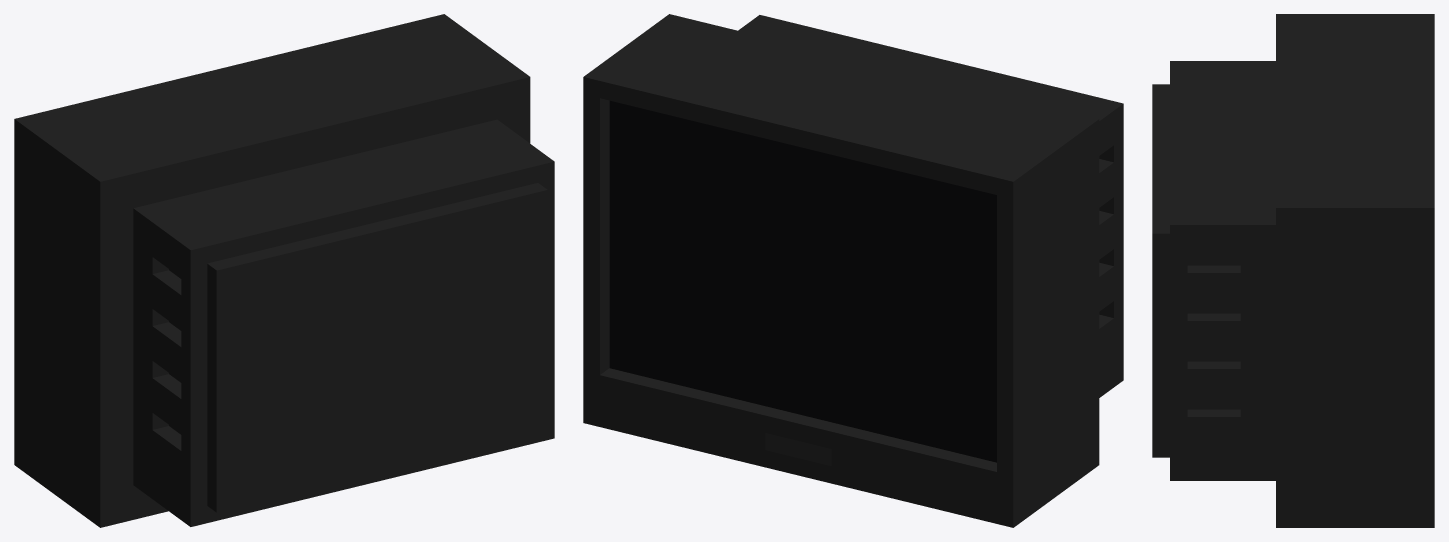
3 views of the same model, side by side, from view 1: azimuth 30°, elevation 25°; view 2: azimuth 150°, elevation 25°; view 3: azimuth 270°, elevation 25° (orthographic). The views are drawn at different scales.
Visible parts, largest first — view 1: Untitled.001; view 2: Untitled.001, Untitled; view 3: Untitled.001.
Boxes of the visible parts, bbox=[...] form: Untitled.001: bbox=[14, 14, 554, 527]; Untitled.001: bbox=[583, 14, 1123, 527]; Untitled: bbox=[609, 100, 996, 462]; Untitled.001: bbox=[1152, 14, 1434, 527].
Size of the model in its own units: 0.78 by 0.6 by 0.48.
Materials: 2 (2 with a texture image).
